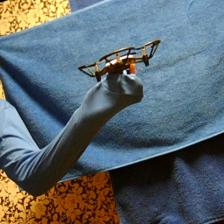drone: (77, 38, 162, 83)
